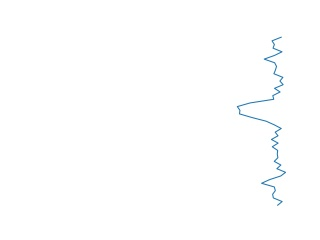interdistributaryEstuary: (232, 35, 290, 205)
